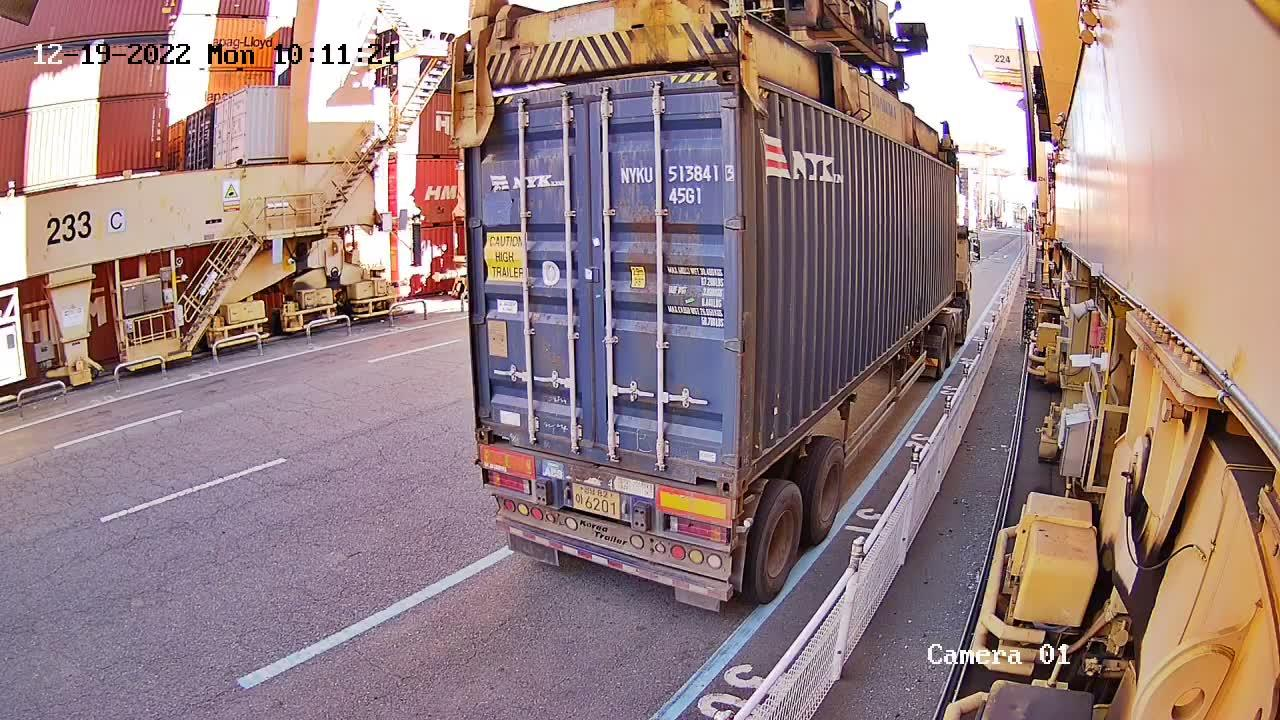Chassis: (477, 445, 734, 526)
Cone: (734, 492, 747, 519)
Hole_L: (736, 432, 766, 497), (474, 408, 512, 449)
Hole_R: (693, 449, 735, 496)
Tire: (749, 484, 804, 603), (810, 441, 844, 534)
